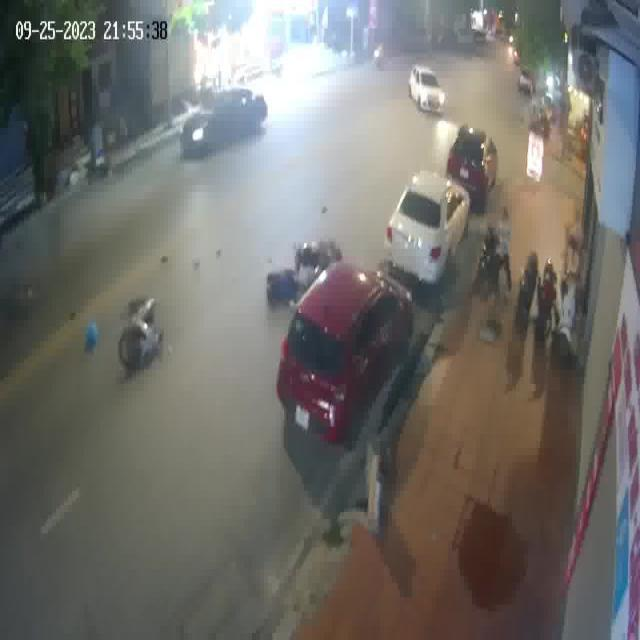multiple_accident: (77, 238, 221, 383), (261, 192, 351, 321)
normal: (169, 71, 281, 176), (403, 37, 457, 130)
